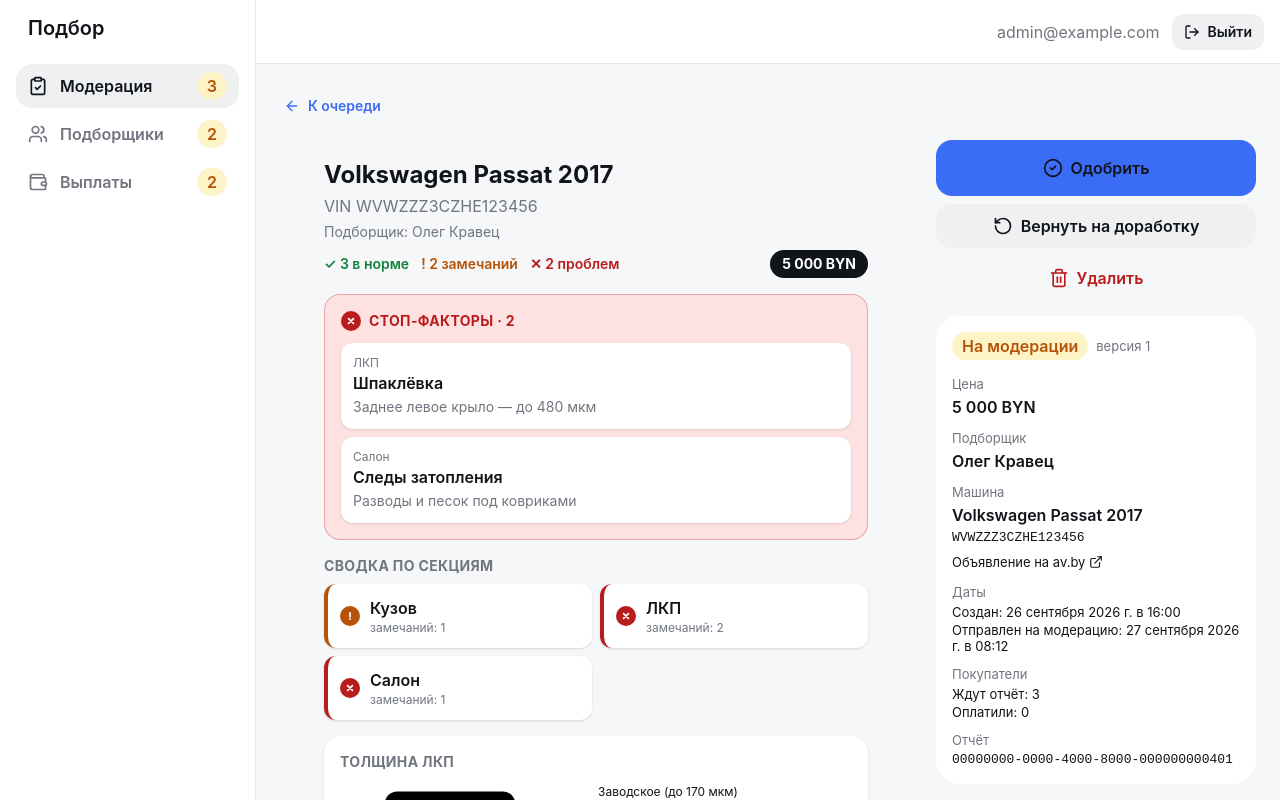
одобрить › диалог подтверждения → 200 → тост «Опубликовано», отчёт ушёл из очереди, открылся следующий
The width and height of the screenshot is (1280, 800).
Click the button "Одобрить" at (1096, 168), box left=936, top=140, right=1256, bottom=196
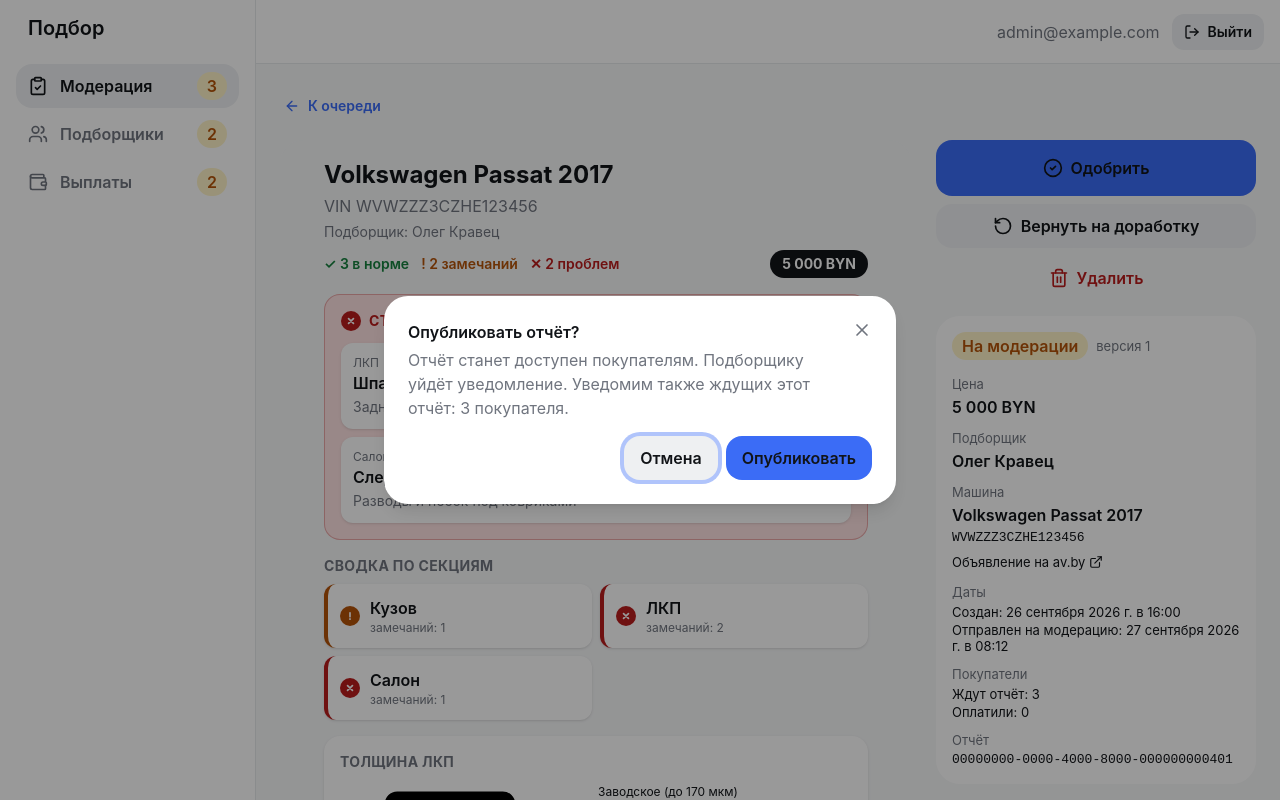
Expected: the heading "Опубликовать отчёт?" is shown, left=408, top=322, right=580, bottom=342
Click the button "Опубликовать" at (799, 458), box left=726, top=436, right=872, bottom=480
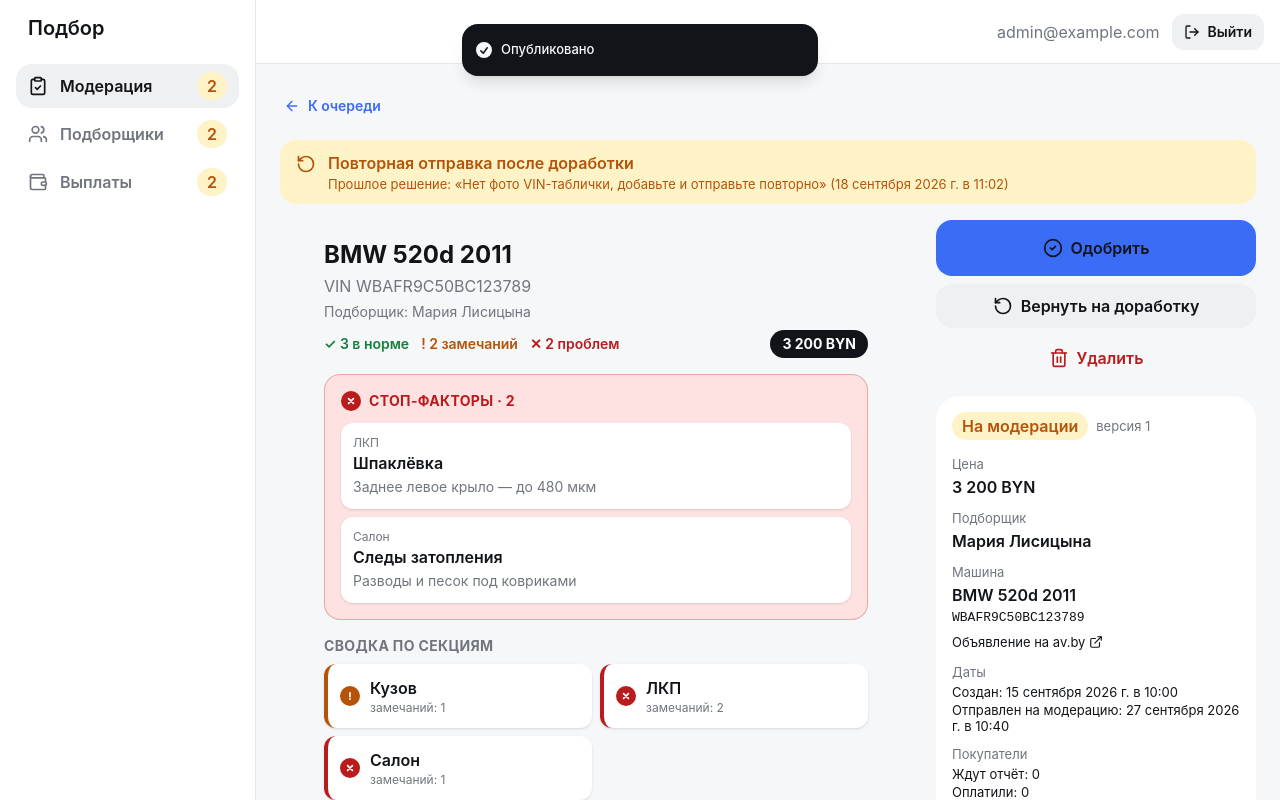
Expected: the text "Опубликовано" is shown, left=501, top=40, right=594, bottom=60
